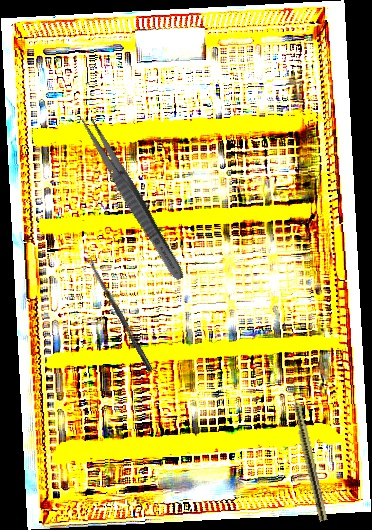Dressing Forceps: (75, 112, 190, 284)
Handpiece: (286, 379, 330, 522)
Surgical Spoon: (85, 255, 155, 373)
